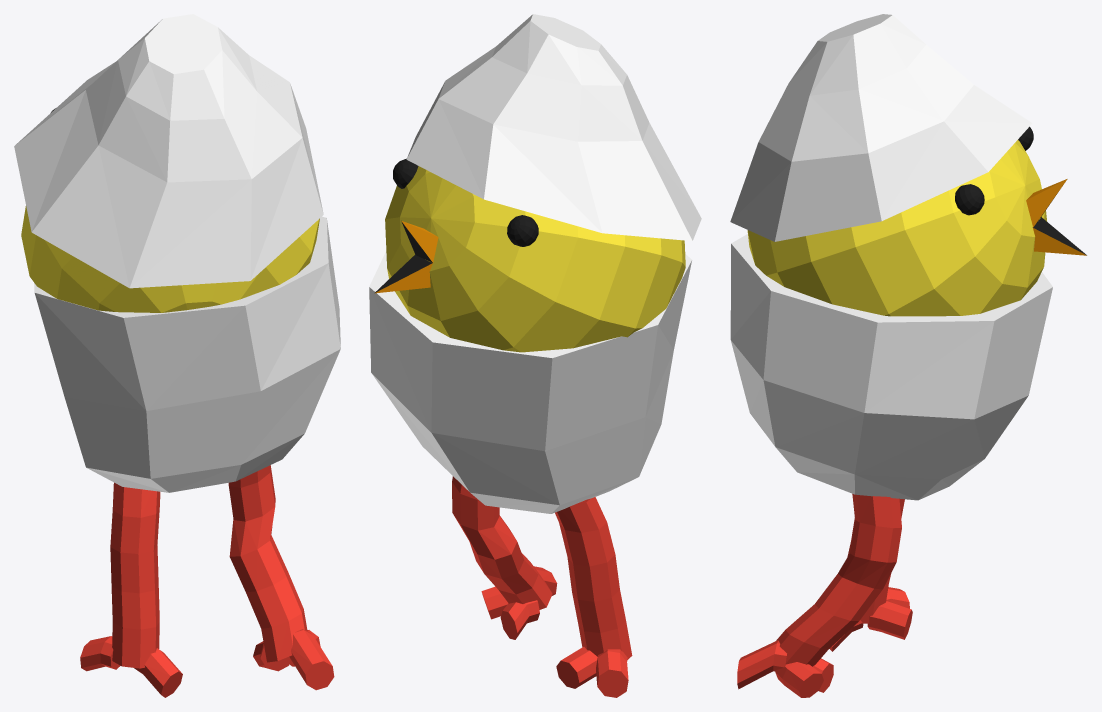
The model's file is chigg-by-thomas-de-rivaz-cbxL0gLuLgN.glb.
3 renders of one model, left to right at view 1: azimuth 30°, elevation 25°; view 2: azimuth 150°, elevation 25°; view 3: azimuth 270°, elevation 25°, orthographic.
Parts seen in each view (by area): view 1: Node; view 2: Node; view 3: Node.
Part boxes in pixels (x1,y1,x2,y2): Node: (14,14,340,697); Node: (369,14,701,697); Node: (730,14,1086,697).
Size of the model in its own units: 0.2162 by 0.4494 by 0.2237.
